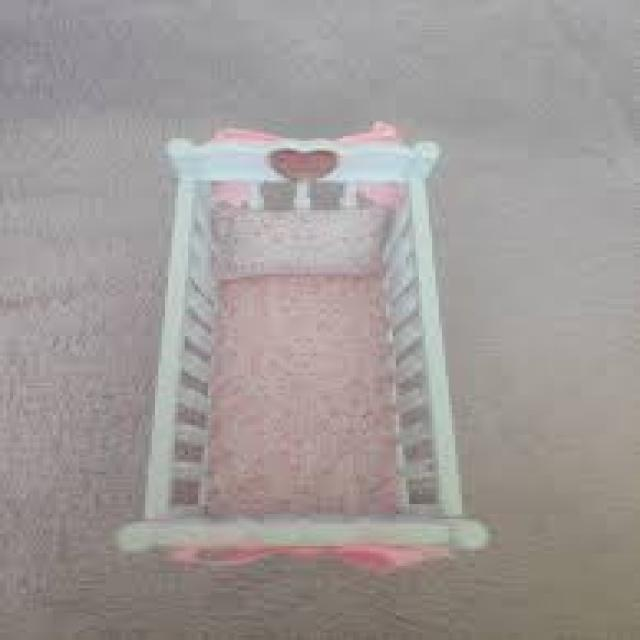crib: (163, 143, 454, 538)
